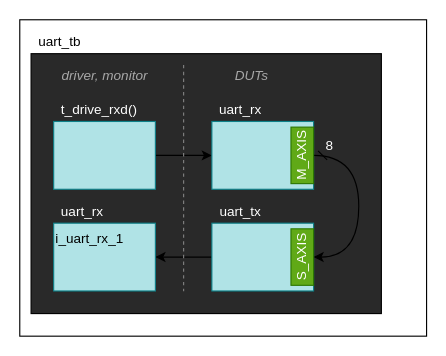
Some shapes in this 446 by 356 pixel diagram are drawn without their labels. Each missing label, with the box of its shape:
i_uart_rx_0: (211, 120, 314, 189)
i_uart_tx: (211, 222, 314, 291)
